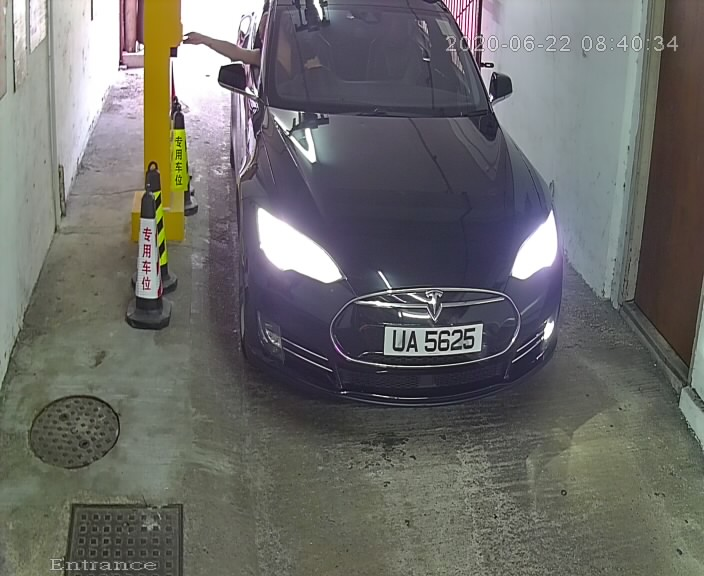privatecar: (207, 2, 599, 410)
